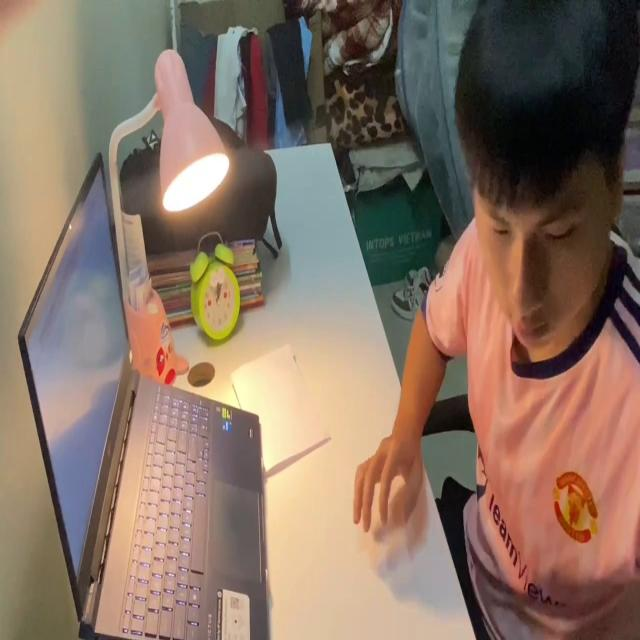laptop: (19, 144, 265, 640)
student: (345, 1, 640, 640)
